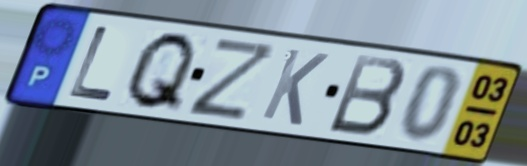0: (396, 63, 466, 146)
B: (323, 51, 409, 140)
K: (256, 45, 333, 130)
L: (64, 22, 118, 104)
Q: (121, 29, 201, 116)
Z: (184, 35, 283, 124)
